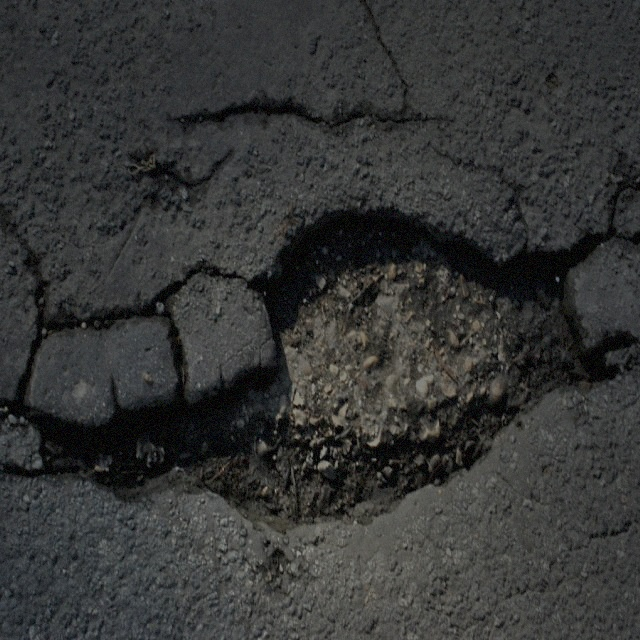pothole: (140, 181, 600, 542)
